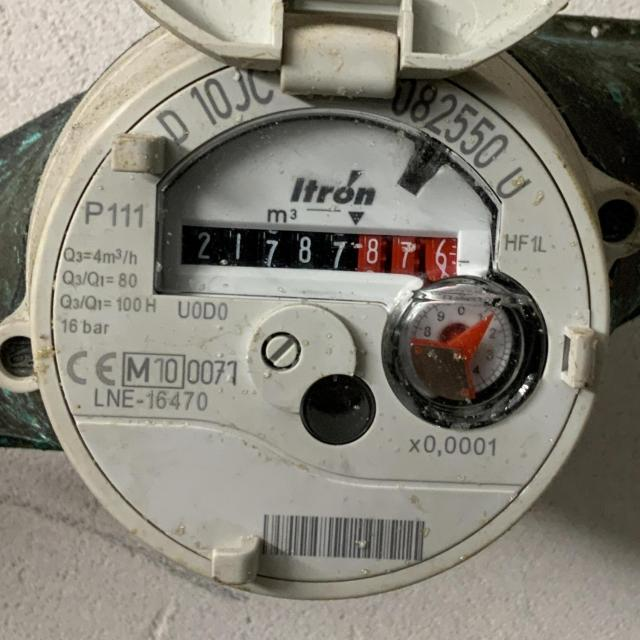gaz_meter: (53, 51, 592, 586)
indication: (180, 218, 463, 275)
